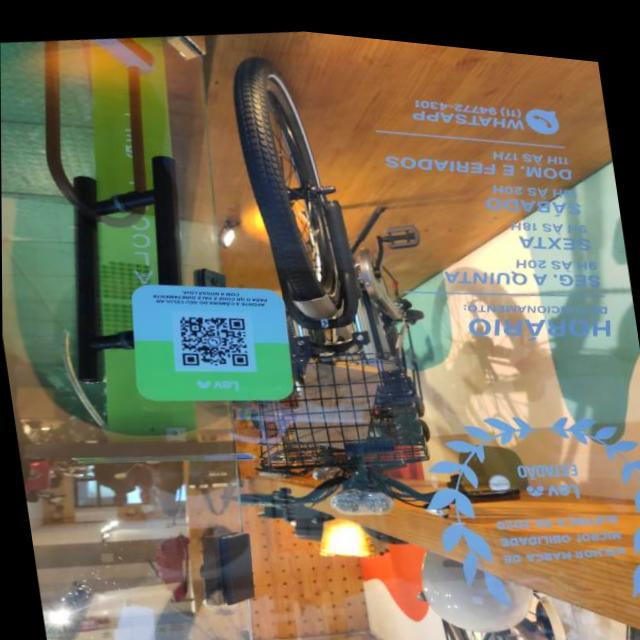qrcode: (177, 304, 250, 370)
